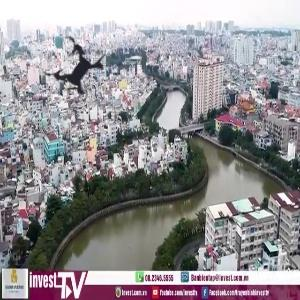drone: (24, 17, 130, 123)
